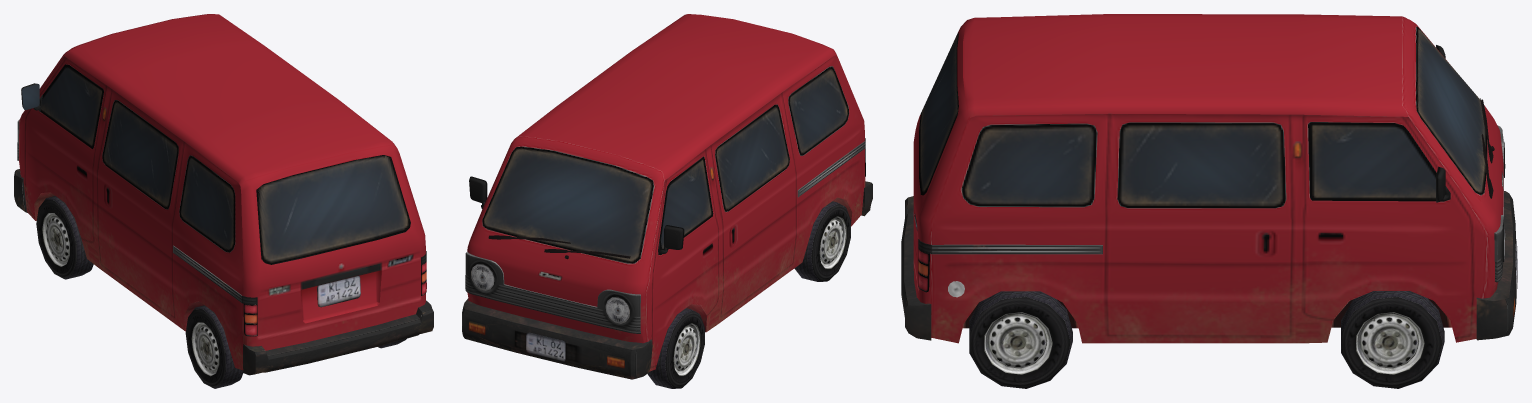
The model's file is maruti_suzuki_omni_small_van.glb.
3 renders of one model, left to right at view 1: azimuth 30°, elevation 25°; view 2: azimuth 150°, elevation 25°; view 3: azimuth 270°, elevation 25°, orthographic. The views are drawn at different scales.
Parts seen in each view (by area): view 1: Cube, Cube.001, Cylinder.004, Cylinder.002, Cube.004, Cube.003; view 2: Cube, Cube.001, Cube.002, Cylinder.004, Cylinder.002, Cube.003, Cube.004, Cube.005; view 3: Cube, Cylinder.001, Cylinder.003, Cube.001, Cube.004, Cube.002, Cube.003.
Part boxes in pixels (box(x1,y1,x2,y2)): Cube: box(19, 14, 425, 370); Cube.001: box(14, 169, 433, 375); Cylinder.004: box(36, 196, 93, 279); Cylinder.002: box(185, 305, 243, 388); Cube.004: box(173, 245, 426, 336); Cube.003: box(21, 83, 42, 111); Cube: box(467, 14, 865, 371); Cube.001: box(462, 181, 872, 379); Cube.002: box(465, 252, 640, 333); Cylinder.004: box(647, 308, 704, 388); Cylinder.002: box(794, 201, 850, 281); Cube.003: box(469, 176, 684, 323); Cube.004: box(797, 138, 865, 197); Cube.005: box(488, 235, 630, 258); Cube: box(913, 14, 1503, 343); Cylinder.001: box(1341, 291, 1444, 388); Cylinder.003: box(969, 291, 1072, 388); Cube.001: box(901, 191, 1517, 340); Cube.004: box(918, 239, 1102, 292); Cube.002: box(1494, 125, 1503, 282); Cube.003: box(1436, 45, 1505, 261).
Bounding box in the file's own units: 2.03 × 2 × 3.98.
4 materials, 4 textured.
